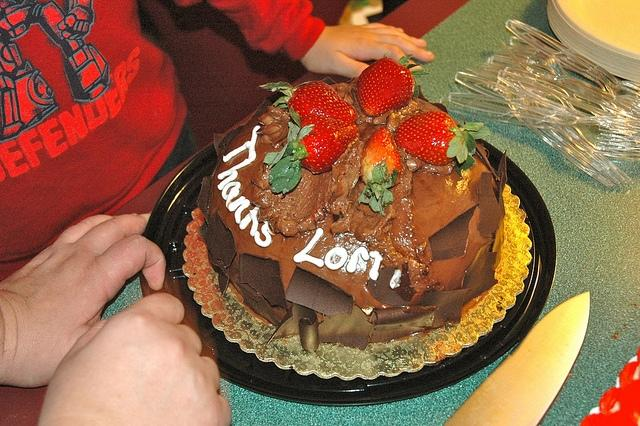strawberry: (264, 104, 359, 195), (393, 111, 491, 177), (355, 52, 431, 118), (258, 81, 358, 122), (358, 127, 402, 215)
